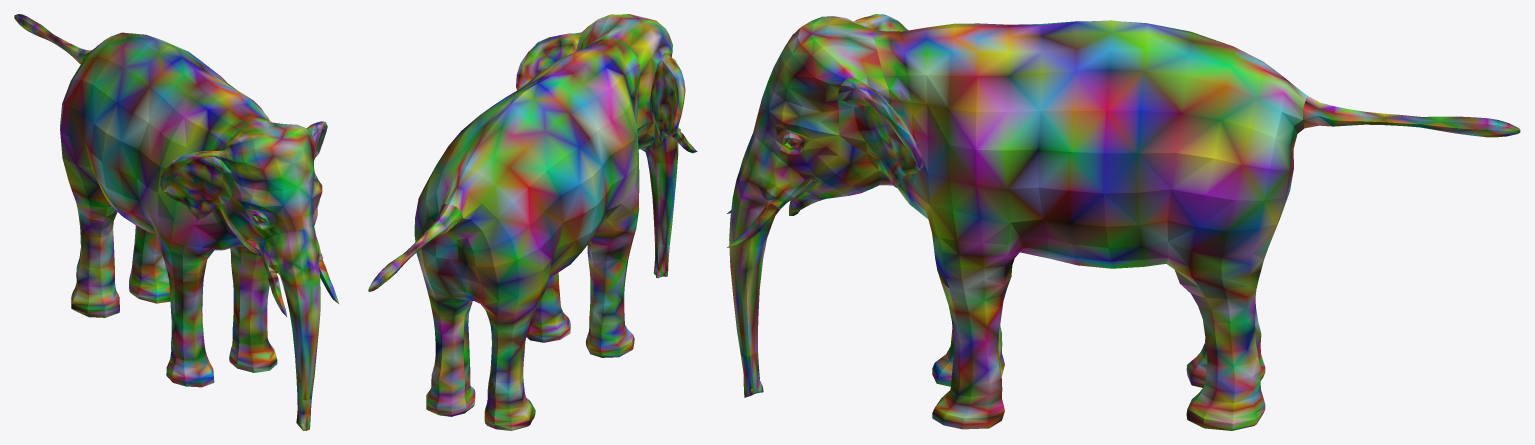
3 renders of one model, left to right at view 1: azimuth 30°, elevation 25°; view 2: azimuth 150°, elevation 25°; view 3: azimuth 270°, elevation 25°, orthographic. The views are drawn at different scales.
Parts seen in each view (by area): view 1: elephant_01:polySurface11_lambert2_0; view 2: elephant_01:polySurface11_lambert2_0; view 3: elephant_01:polySurface11_lambert2_0.
Boxes of the visible parts, <box> form: elephant_01:polySurface11_lambert2_0: <box>14,14,339,430</box>; elephant_01:polySurface11_lambert2_0: <box>368,14,697,430</box>; elephant_01:polySurface11_lambert2_0: <box>727,14,1520,430</box>.
Size of the model in its own units: 19.22 by 32.29 by 61.26.
